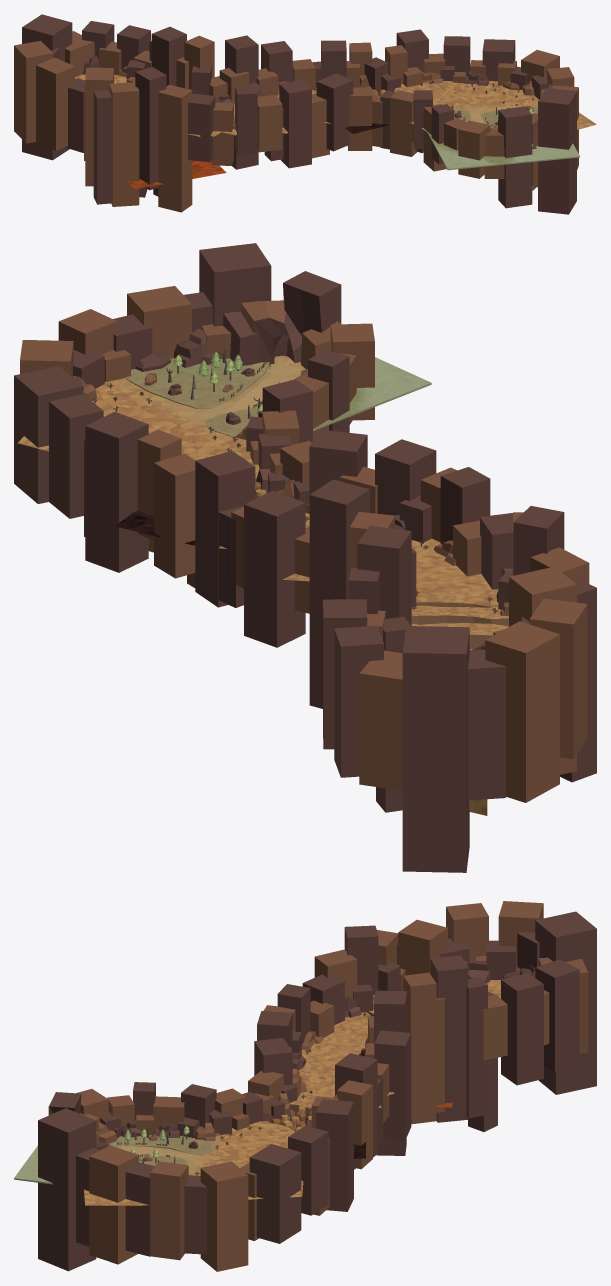
Rendered from level2.glb.
3 views of the same model, one above another, from view 1: azimuth 30°, elevation 25°; view 2: azimuth 150°, elevation 25°; view 3: azimuth 270°, elevation 25° (orthographic). The views are drawn at different scales.
Visible parts, largest first — view 1: Cube.001, Cube.117, Cube.121, Cube.048, Plane, Cube.128, Cube.119, Cube.089, Cube.130, Plane.009, Cube.120, Cube.086 (+48 smaller); view 2: Cube.134, Cube.130, Cube.007, Cube.078, Plane, Cube.079, Plane.009, Cube.110, Cube.048, Cube.135, Cube.077, Cube.011 (+40 smaller); view 3: Cube.001, Cube.134, Cube.013, Cube.011, Cube.106, Cube.017, Cube.107, Cube.103, Plane, Cube.108, Cube.015, Plane.013 (+40 smaller).
Boxes of the visible parts, x1,y1,x2,y2 form: Cube.001: [538, 87, 576, 214]; Cube.117: [158, 84, 192, 212]; Cube.121: [109, 82, 139, 206]; Cube.048: [498, 106, 537, 208]; Plane: [394, 71, 596, 142]; Cube.128: [36, 57, 74, 150]; Cube.119: [135, 67, 166, 190]; Cube.089: [279, 80, 311, 168]; Cube.130: [14, 40, 53, 143]; Plane.009: [427, 106, 579, 170]; Cube.120: [93, 90, 111, 204]; Cube.086: [316, 73, 353, 151]; Cube.134: [402, 626, 469, 872]; Cube.130: [485, 621, 559, 802]; Cube.007: [85, 412, 148, 572]; Cube.078: [244, 490, 305, 647]; Plane: [17, 355, 316, 477]; Cube.079: [309, 479, 369, 708]; Plane.009: [125, 357, 431, 436]; Cube.110: [359, 650, 402, 790]; Cube.048: [240, 271, 341, 364]; Cube.135: [468, 649, 505, 800]; Cube.077: [195, 451, 255, 607]; Cube.011: [14, 366, 83, 503]; Cube.001: [38, 1108, 96, 1271]; Cube.134: [535, 911, 596, 1094]; Cube.013: [200, 1161, 248, 1271]; Cube.011: [249, 1144, 301, 1243]; Cube.106: [430, 955, 468, 1122]; Cube.017: [89, 1145, 138, 1264]; Cube.107: [501, 973, 543, 1085]; Cube.103: [403, 972, 436, 1124]; Plane: [84, 1121, 303, 1205]; Cube.108: [535, 959, 579, 1072]; Cube.015: [150, 1161, 188, 1260]; Plane.013: [290, 1012, 394, 1108].
Bounding box in the file's own units: 4998 × 1572 × 4761.
39 materials, 33 textured.
